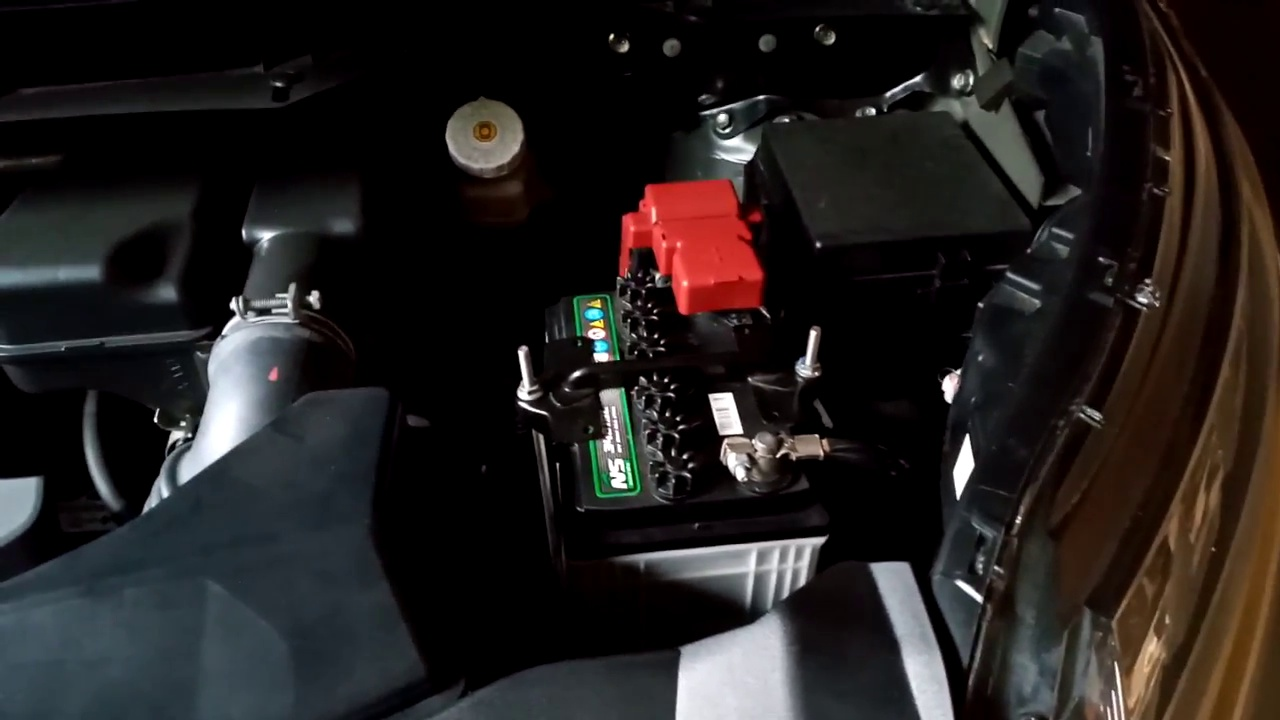battery: (508, 279, 849, 521)
neg_connected: (702, 395, 849, 501)
pos_connected: (609, 171, 771, 336)
